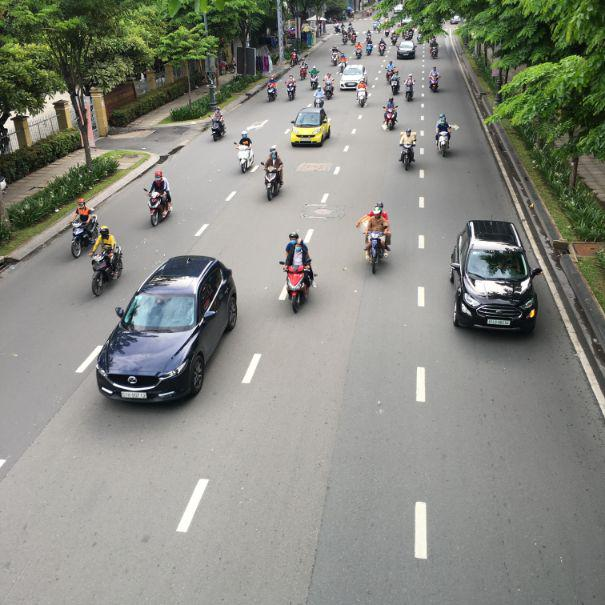car: (95, 254, 238, 405), (452, 217, 544, 334), (288, 109, 331, 148), (340, 66, 368, 91), (397, 42, 415, 60)
motorbike: (280, 265, 314, 315), (91, 249, 126, 297), (365, 228, 392, 274), (262, 150, 284, 202), (69, 220, 98, 257), (147, 192, 171, 227), (235, 138, 256, 174), (383, 103, 398, 131), (401, 145, 418, 169), (406, 76, 416, 102)
